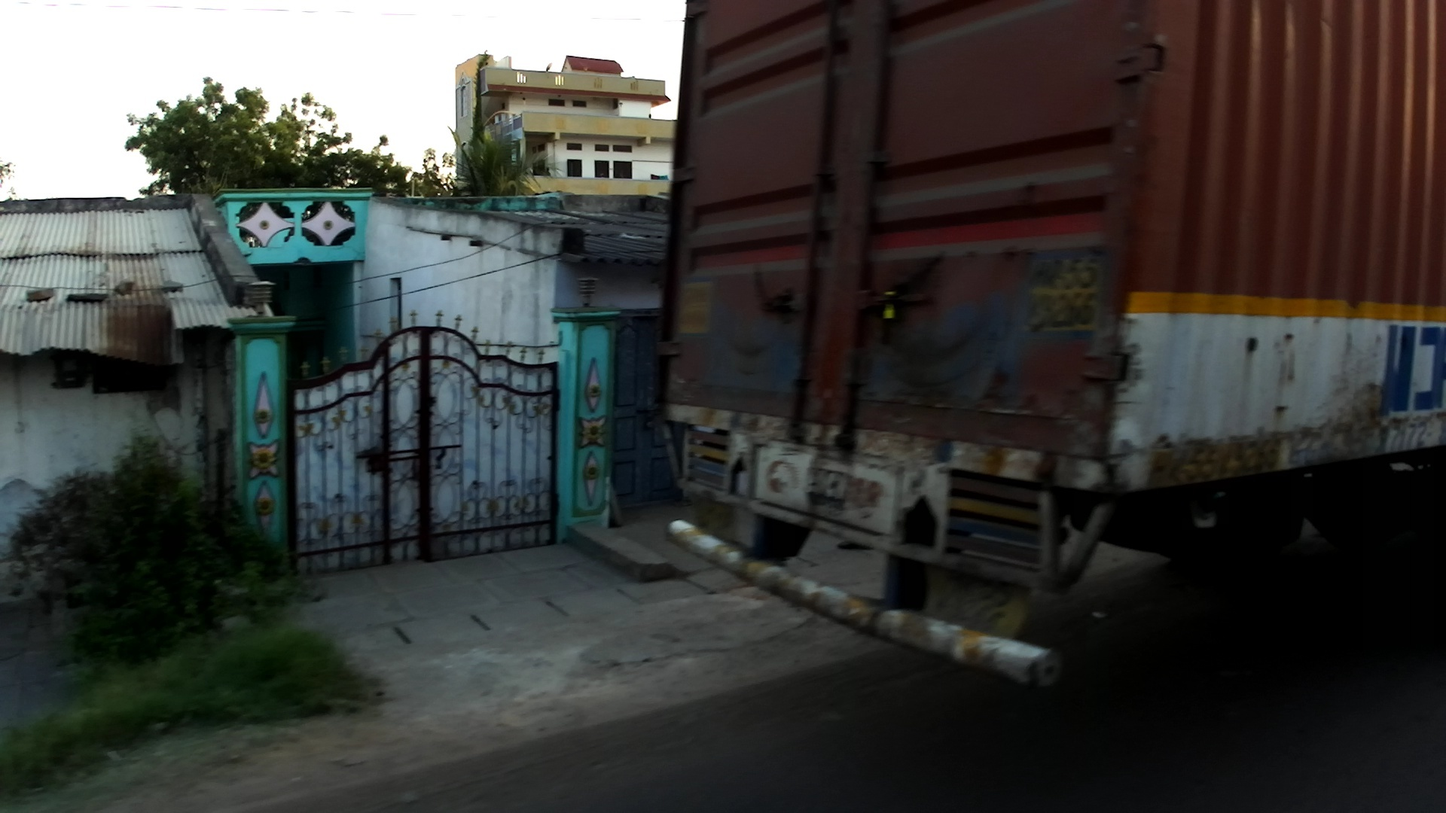truck: (643, 1, 1446, 687)
